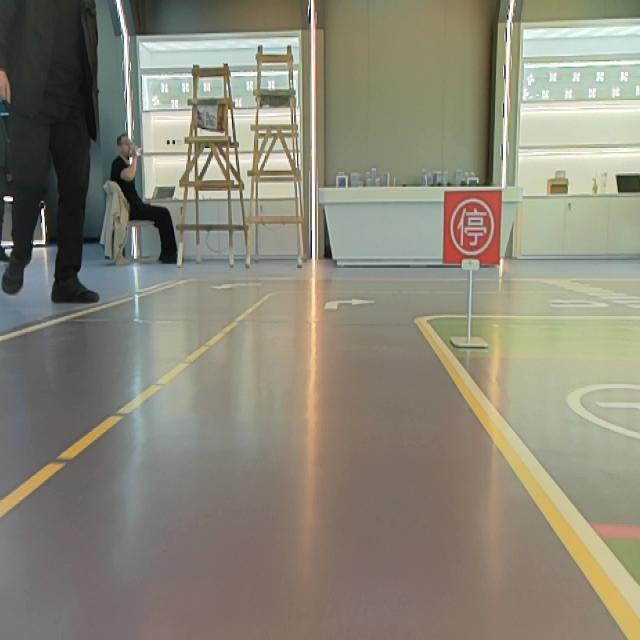left_lane: (0, 290, 283, 519)
right_lane: (412, 324, 639, 640), (0, 283, 168, 346)
